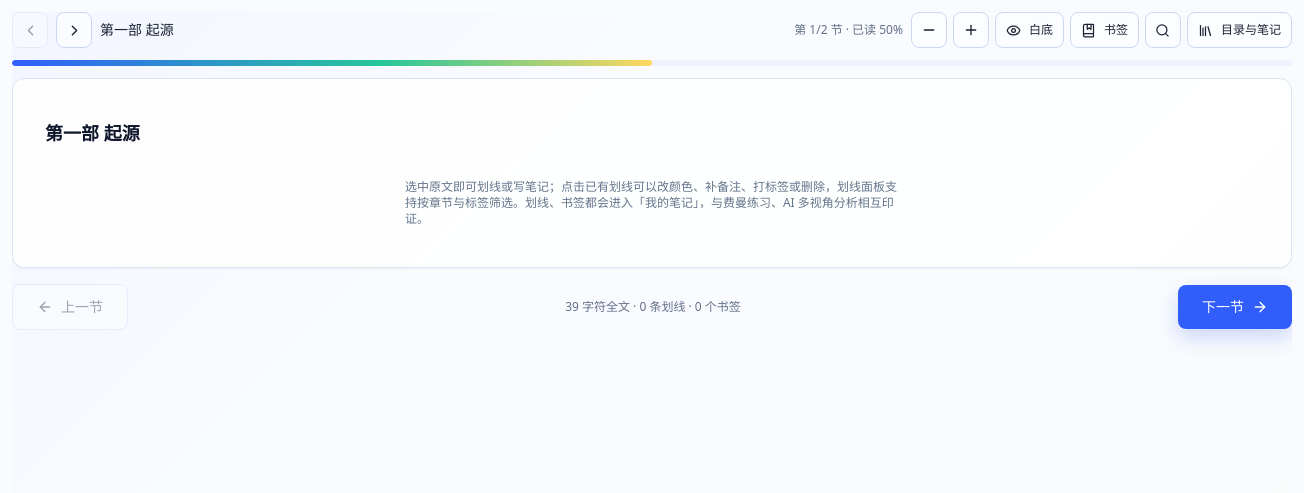
Scenario: BookReader table of contents › scrolls to the exact subheading anchor when a contents entry is picked
The width and height of the screenshot is (1304, 493).
Click the button "目录与笔记": (1240, 30) [1187,12,1292,48]
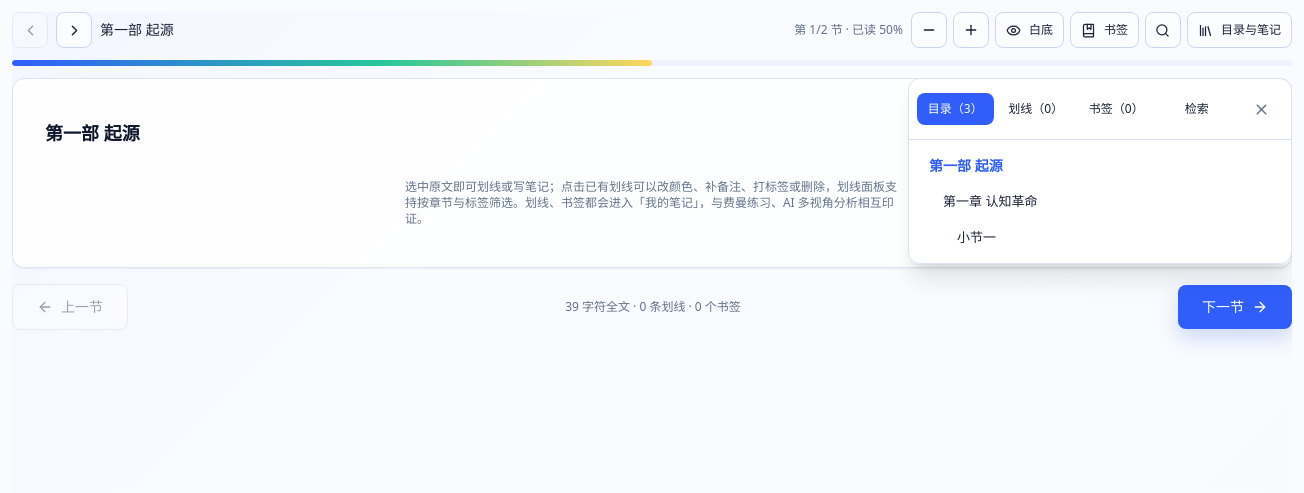
Click the button "小节一": (977, 237) [917,221,1283,255]
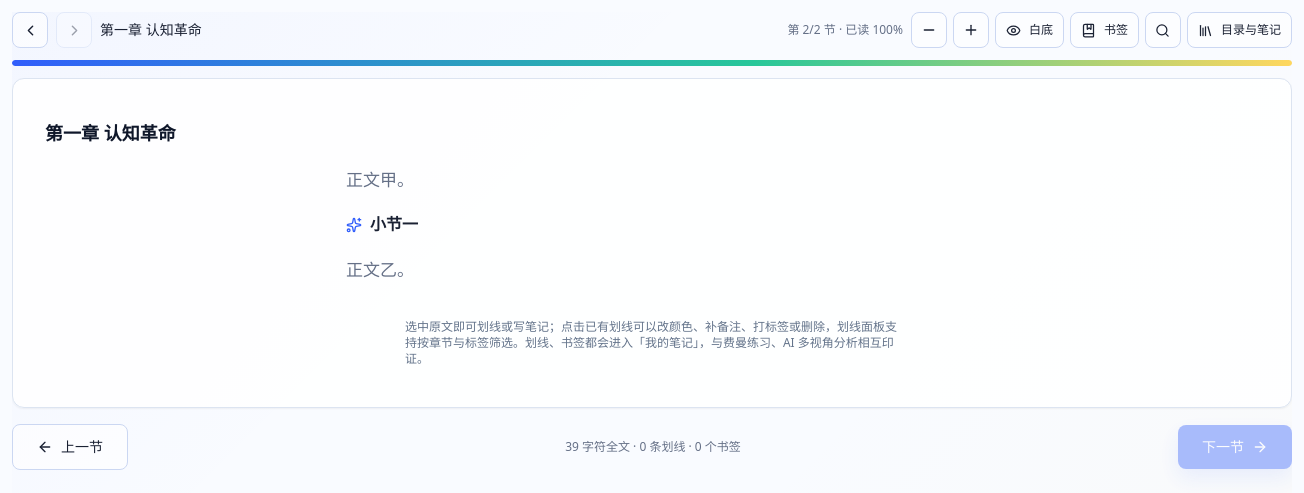
Check: the heading "小节一" is shown, box [346,216,418,233]
Check: the heading "第一章 认知革命" is shown, box [45,121,176,145]
